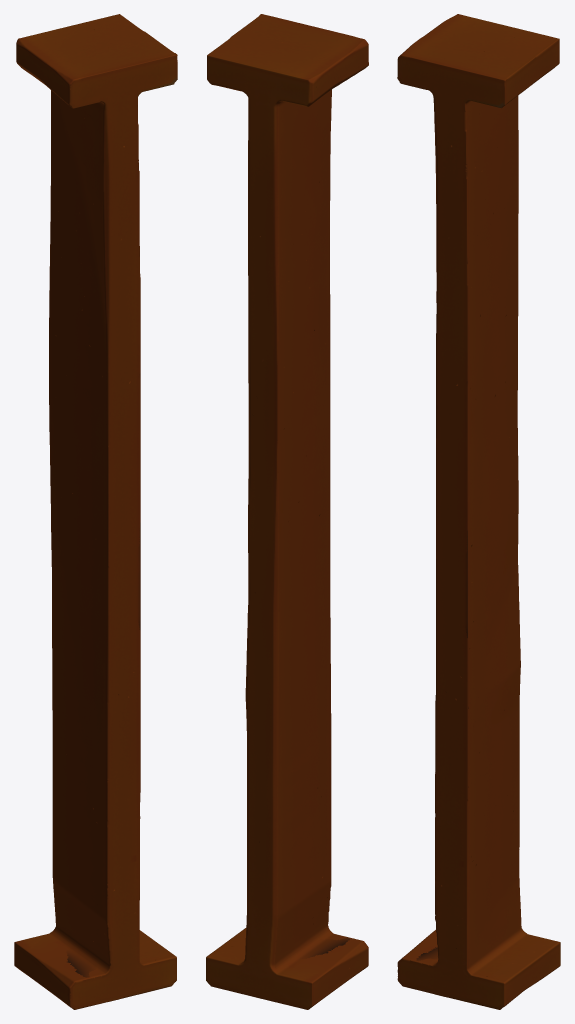
The model's file is viga_vertical.glb.
3 renders of one model, left to right at view 1: azimuth 30°, elevation 25°; view 2: azimuth 150°, elevation 25°; view 3: azimuth 330°, elevation 25°, orthographic.
Visible parts, largest first — view 1: texture_pbr_v128; view 2: texture_pbr_v128; view 3: texture_pbr_v128.
Part boxes in pixels (x1,y1,x2,y2): texture_pbr_v128: (14, 14, 177, 1009); texture_pbr_v128: (206, 14, 368, 1009); texture_pbr_v128: (397, 14, 560, 1009).
Bounding box in the file's own units: 0.1436 × 1.18 × 0.13.
1 material, 1 textured.
